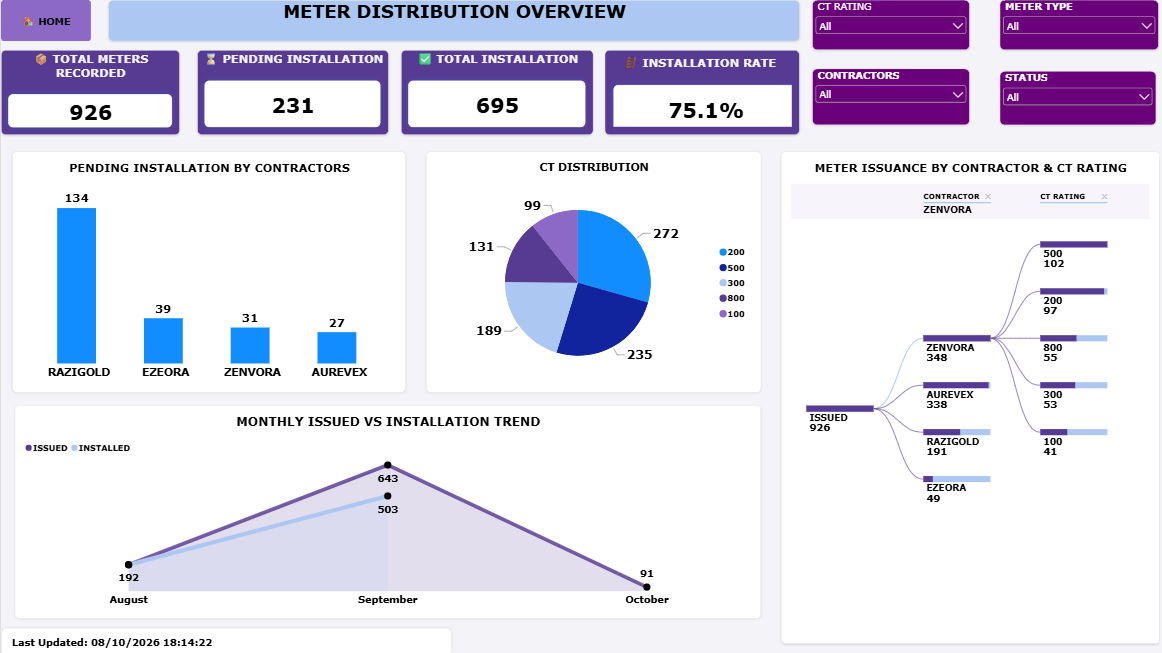

This screenshot's page, from the dashboard's own definition file:
{"tool":"powerbi","page":{"name":"PROJECT C","canvas":[1920,1080],"ordinal":4},"visuals":[{"type":"cardVisual","title":"📦 TOTAL METERS RECORDED","fields":{"Data":["AEDC METER.TOTAL METERS"]},"box":[0,82.3,294.3,140],"z":0},{"type":"cardVisual","title":"⌛  PENDING INSTALLATION","fields":{"Data":["AEDC METER.ISSUED OUT"]},"box":[323.2,82.3,314.9,140],"z":1000},{"type":"cardVisual","title":"✅  TOTAL INSTALLATION","fields":{"Data":["AEDC METER.INSTALLED"]},"box":[658.7,82.3,317,140],"z":2000},{"type":"cardVisual","title":"🪜  INSTALLATION RATE","fields":{"Data":["AEDC METER.INSTALLATION RATE"]},"box":[994.2,82.3,321.1,140],"z":3000},{"type":"lineChart","title":"MONTHLY ISSUED VS INSTALLATION TREND","fields":{"Y":["AEDC METER.TOTAL METERS AEDC","AEDC METER.INSTALLED"],"Category":["AEDC DATE TABLE.Date.Variation.Date Hierarchy.Month"]},"box":[22.6,666.9,1228.8,352],"z":4000},{"type":"decompositionTreeVisual","title":"METER ISSUANCE BY CONTRACTOR & CT RATING","fields":{"ExplainBy":["AEDC METER.CONTRACTOR","AEDC METER.CT RATING"],"Analyze":["AEDC METER.ISSUED"]},"box":[1284.4,249.1,623.7,811],"z":5000},{"type":"pieChart","title":"CT DISTRIBUTION","fields":{"Category":["AEDC METER.CT RATING"],"Y":["AEDC METER.ISSUED"]},"box":[699.8,249.1,551.6,397.3],"z":6000},{"type":"columnChart","title":"PENDING INSTALLATION BY CONTRACTORS","fields":{"Category":["AEDC METER.CONTRACTOR"],"Y":["AEDC METER.PENDING INSTALLATION"]},"box":[18.5,249.1,648.4,397.3],"z":7000},{"type":"slicer","fields":{"Values":["AEDC METER.CT RATING"]},"box":[1335.9,0,259.3,82.3],"z":8000},{"type":"slicer","fields":{"Values":["AEDC METER.CONTRACTOR"]},"box":[1335.9,113.2,259.3,92.6],"z":9000},{"type":"slicer","fields":{"Values":["AEDC METER.METER TYPE"]},"box":[1644.6,0,261.4,82.3],"z":10000},{"type":"slicer","fields":{"Values":["AEDC METER.STATUS"]},"box":[1644.6,117.3,257.3,88.5],"z":11000},{"type":"shape","title":"METER DISTRIBUTION OVERVIEW","box":[177,0,1138.3,67.9],"z":12000},{"type":"cardVisual","fields":{"Data":["AEDC UPDATED DATE.LAST UPDATED TIME AEDC"]},"box":[0,1033.3,743.1,47.3],"z":13000},{"type":"actionButton","box":[0,0,148.2,67.9],"z":14000}]}

Visuals, with their boxes in screenshot pixels (x1, y1, x2, y2), scaled from the page's 1920x1080 canvas onto the 1162x653 screenshot:
"📦 TOTAL METERS RECORDED" cardVisual: 0 50 178 134
"⌛  PENDING INSTALLATION" cardVisual: 196 50 386 134
"✅  TOTAL INSTALLATION" cardVisual: 399 50 591 134
"🪜  INSTALLATION RATE" cardVisual: 602 50 796 134
"MONTHLY ISSUED VS INSTALLATION TREND" lineChart: 14 403 757 616
"METER ISSUANCE BY CONTRACTOR & CT RATING" decompositionTreeVisual: 777 151 1155 641
"CT DISTRIBUTION" pieChart: 424 151 757 391
"PENDING INSTALLATION BY CONTRACTORS" columnChart: 11 151 404 391
slicer - AEDC METER.CT RATING: 808 0 965 50
slicer - AEDC METER.CONTRACTOR: 808 68 965 124
slicer - AEDC METER.METER TYPE: 995 0 1154 50
slicer - AEDC METER.STATUS: 995 71 1151 124
"METER DISTRIBUTION OVERVIEW" shape: 107 0 796 41
cardVisual - AEDC UPDATED DATE.LAST UPDATED TIME AEDC: 0 625 450 652
actionButton: 0 0 90 41
